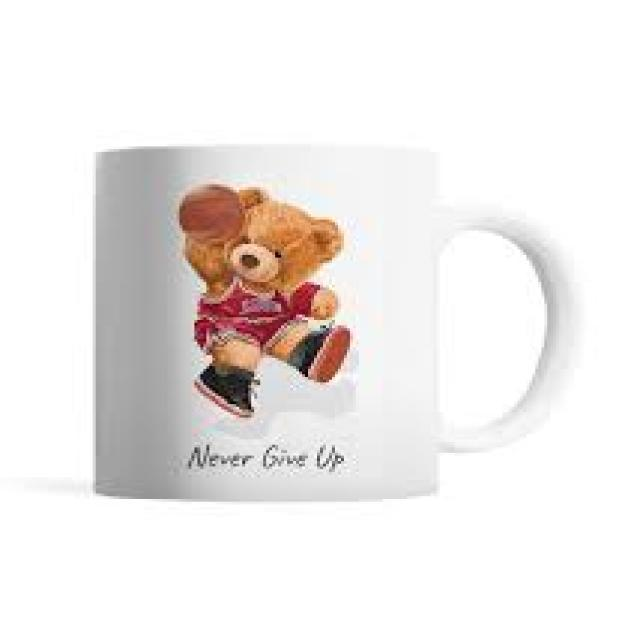taza: (92, 147, 586, 496)
